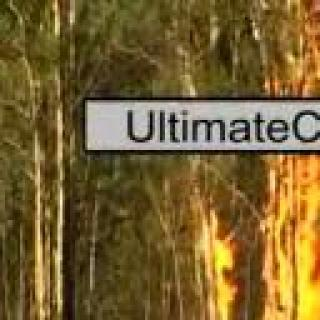fire: (184, 150, 320, 320), (276, 10, 320, 106)
